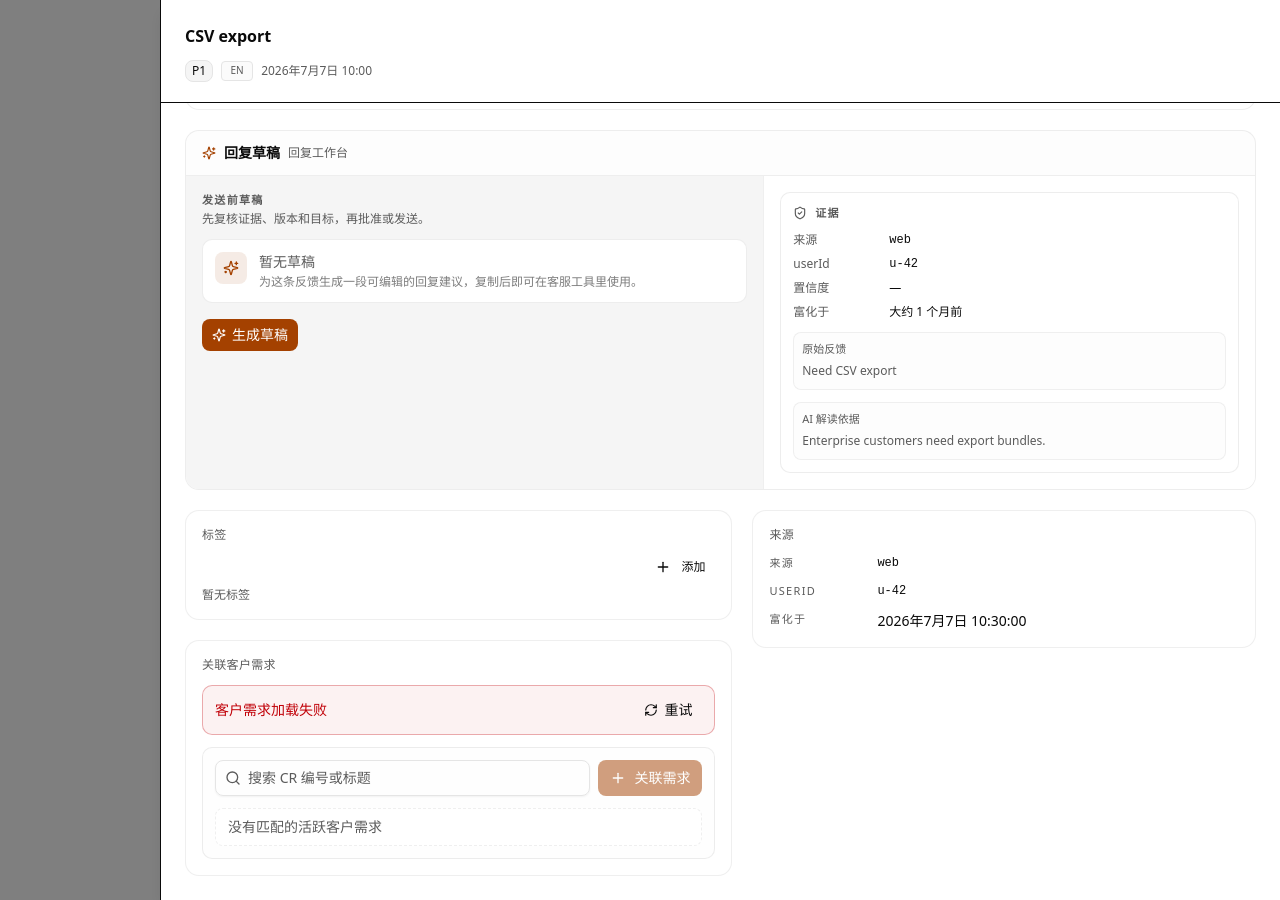
it: FeedbackDetailSheet › shows linked-request load errors and retries the query
(page scrolled)
Expected: the text "客户需求加载失败" is shown, [215,700,327,720]
Step 1. Click the button "重试" → click(668, 710), box [634,694,702,726]
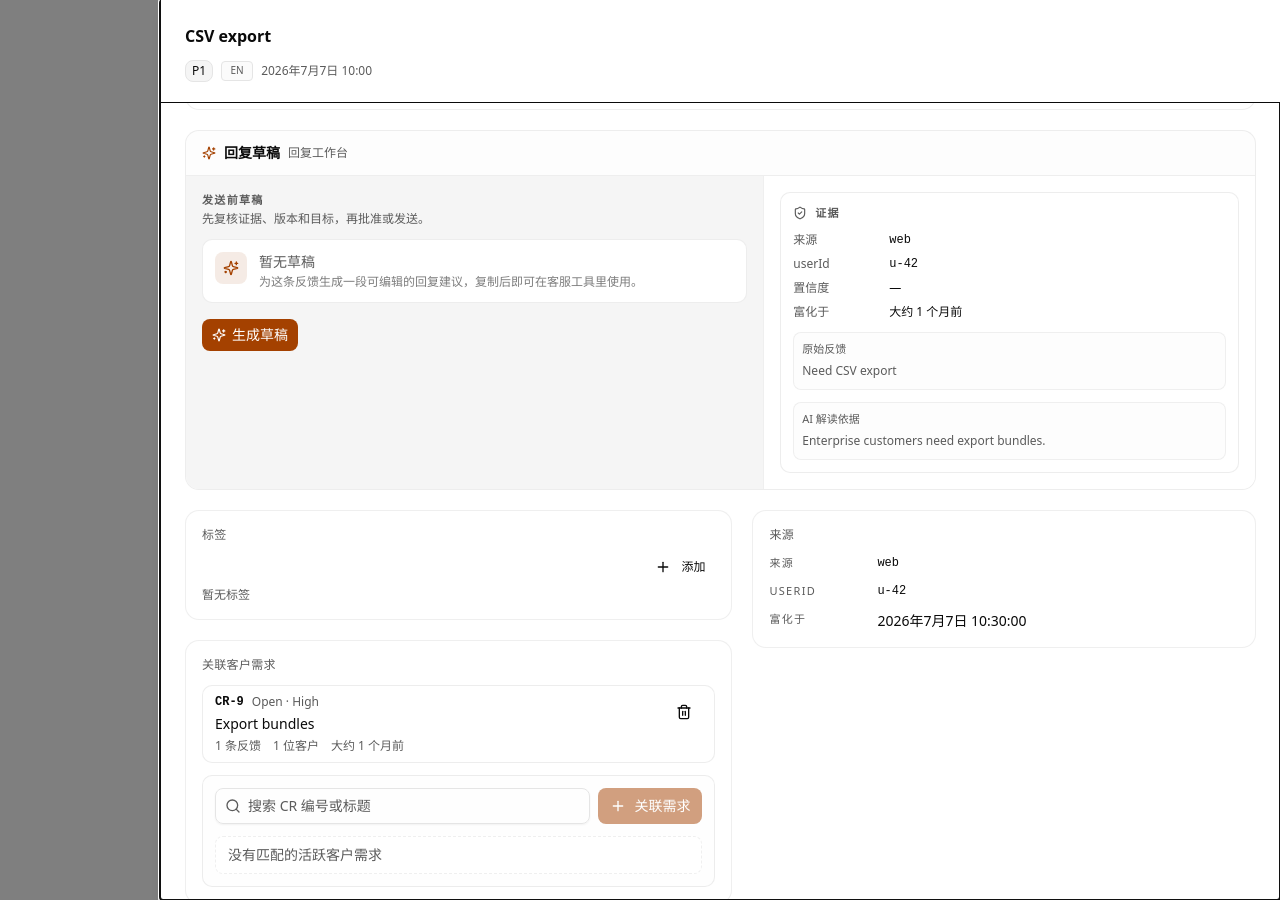
Expected: the text "CR-9" is shown, [215,694,244,710]
